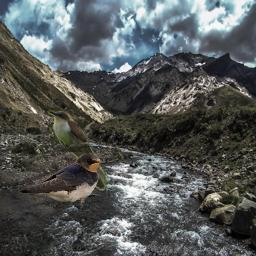Cuckoo: (47, 109, 109, 191)
Swallow: (19, 152, 104, 206)
